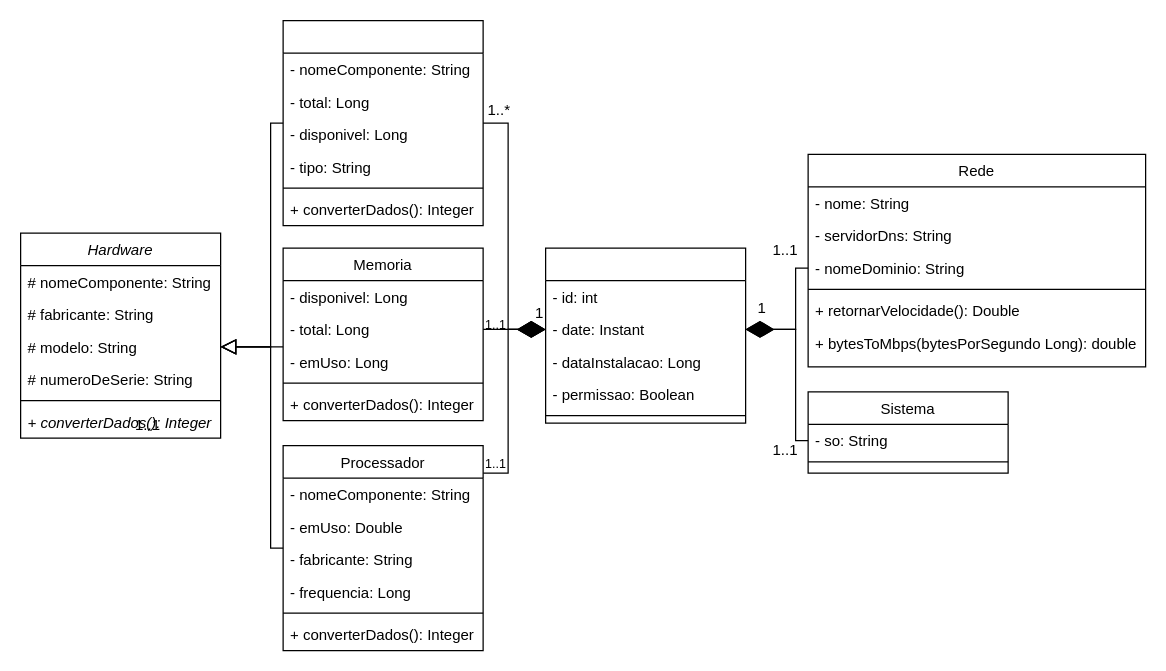
Some shapes in this 1166 by 671 pixel diagram are drawn without their labels. The box of each missing label's shape, as (x1, y1, x2, y2) in pixels:
Disco: (282, 19, 483, 226)
Totem: (544, 247, 746, 423)
